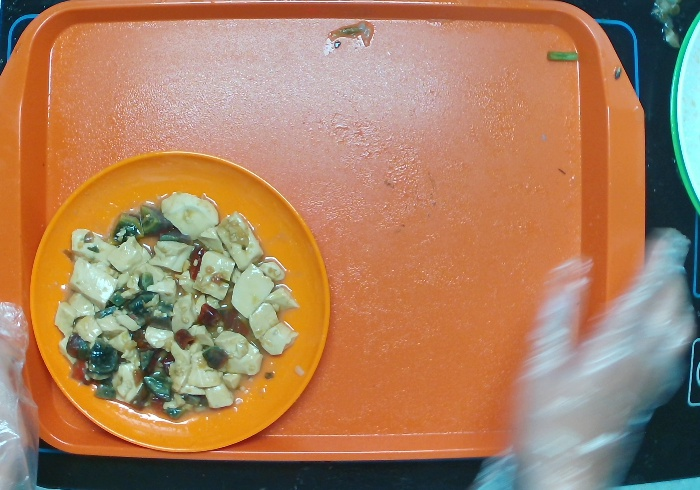HZYJPL-Ju_Huang_Yuan_Pan: (31, 148, 327, 448)
